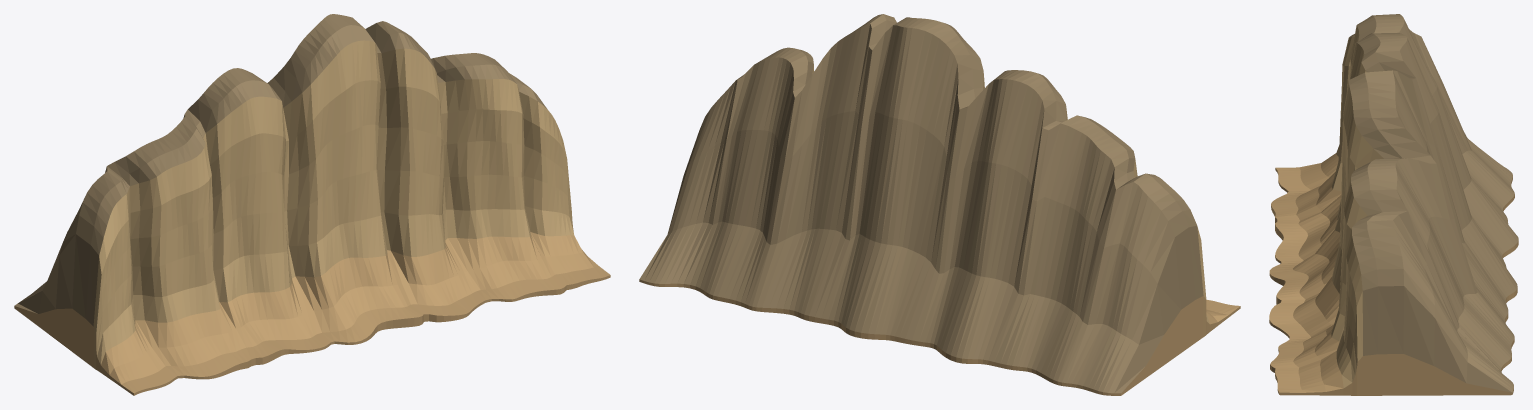
3 views of the same model, side by side, from view 1: azimuth 30°, elevation 25°; view 2: azimuth 150°, elevation 25°; view 3: azimuth 270°, elevation 25° (orthographic). The views are drawn at different scales.
Parts seen in each view (by area): view 1: continuous_fine_silt_loess_bluff_with_unequal_vertical_joint; view 2: continuous_fine_silt_loess_bluff_with_unequal_vertical_joint; view 3: continuous_fine_silt_loess_bluff_with_unequal_vertical_joint.
Part boxes in pixels (x1=…): continuous_fine_silt_loess_bluff_with_unequal_vertical_joint: x1=14, y1=14, x2=610, y2=395; continuous_fine_silt_loess_bluff_with_unequal_vertical_joint: x1=639, y1=14, x2=1240, y2=395; continuous_fine_silt_loess_bluff_with_unequal_vertical_joint: x1=1269, y1=14, x2=1518, y2=395.
Bounding box in the file's own units: 16.12 × 8.52 × 7.5.
